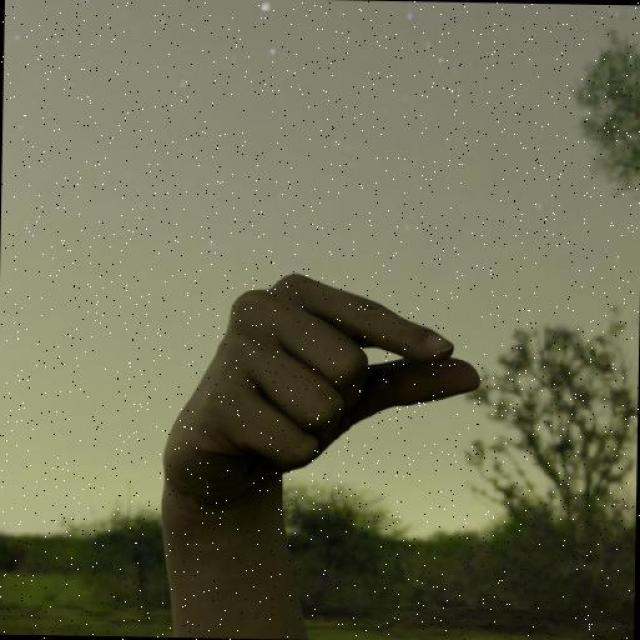G: (158, 268, 487, 514)
